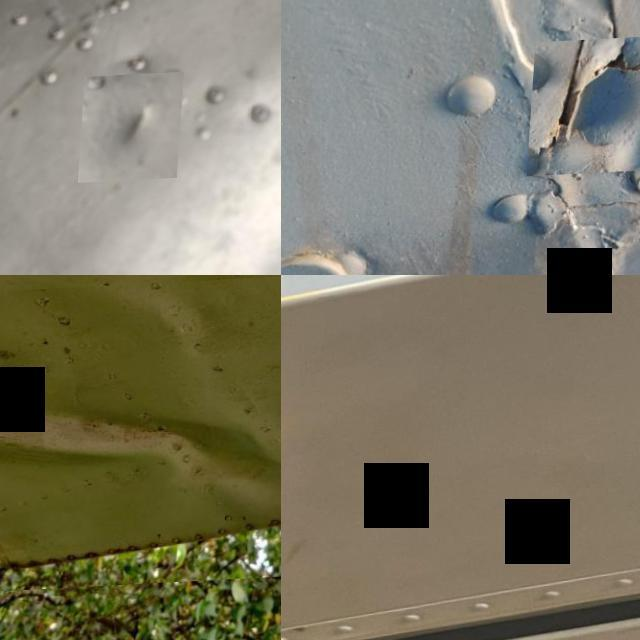Crack: (531, 41, 640, 180)
Dent: (0, 275, 281, 601), (84, 76, 188, 186), (253, 458, 281, 576)
